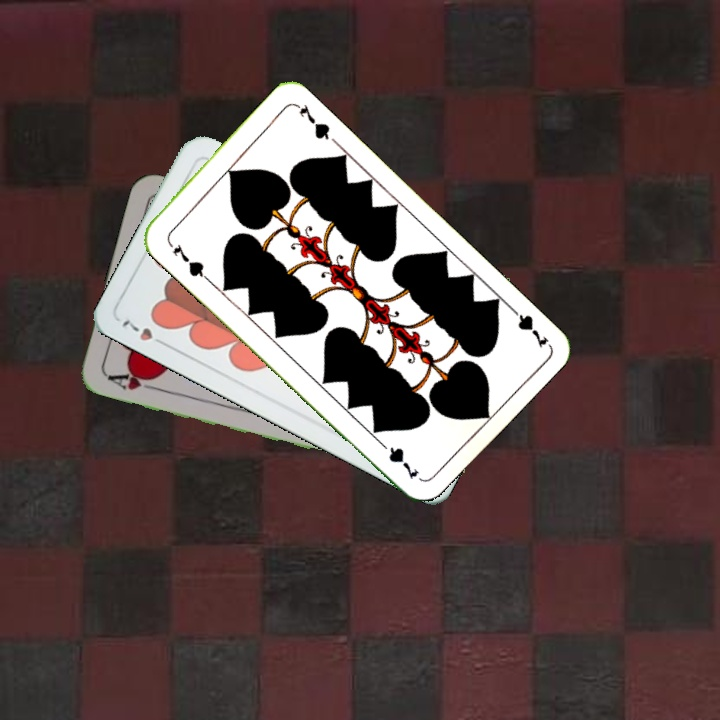G7: (503, 300, 551, 350), (169, 240, 210, 282)
H7: (117, 316, 171, 350)
HA: (103, 366, 161, 393)
